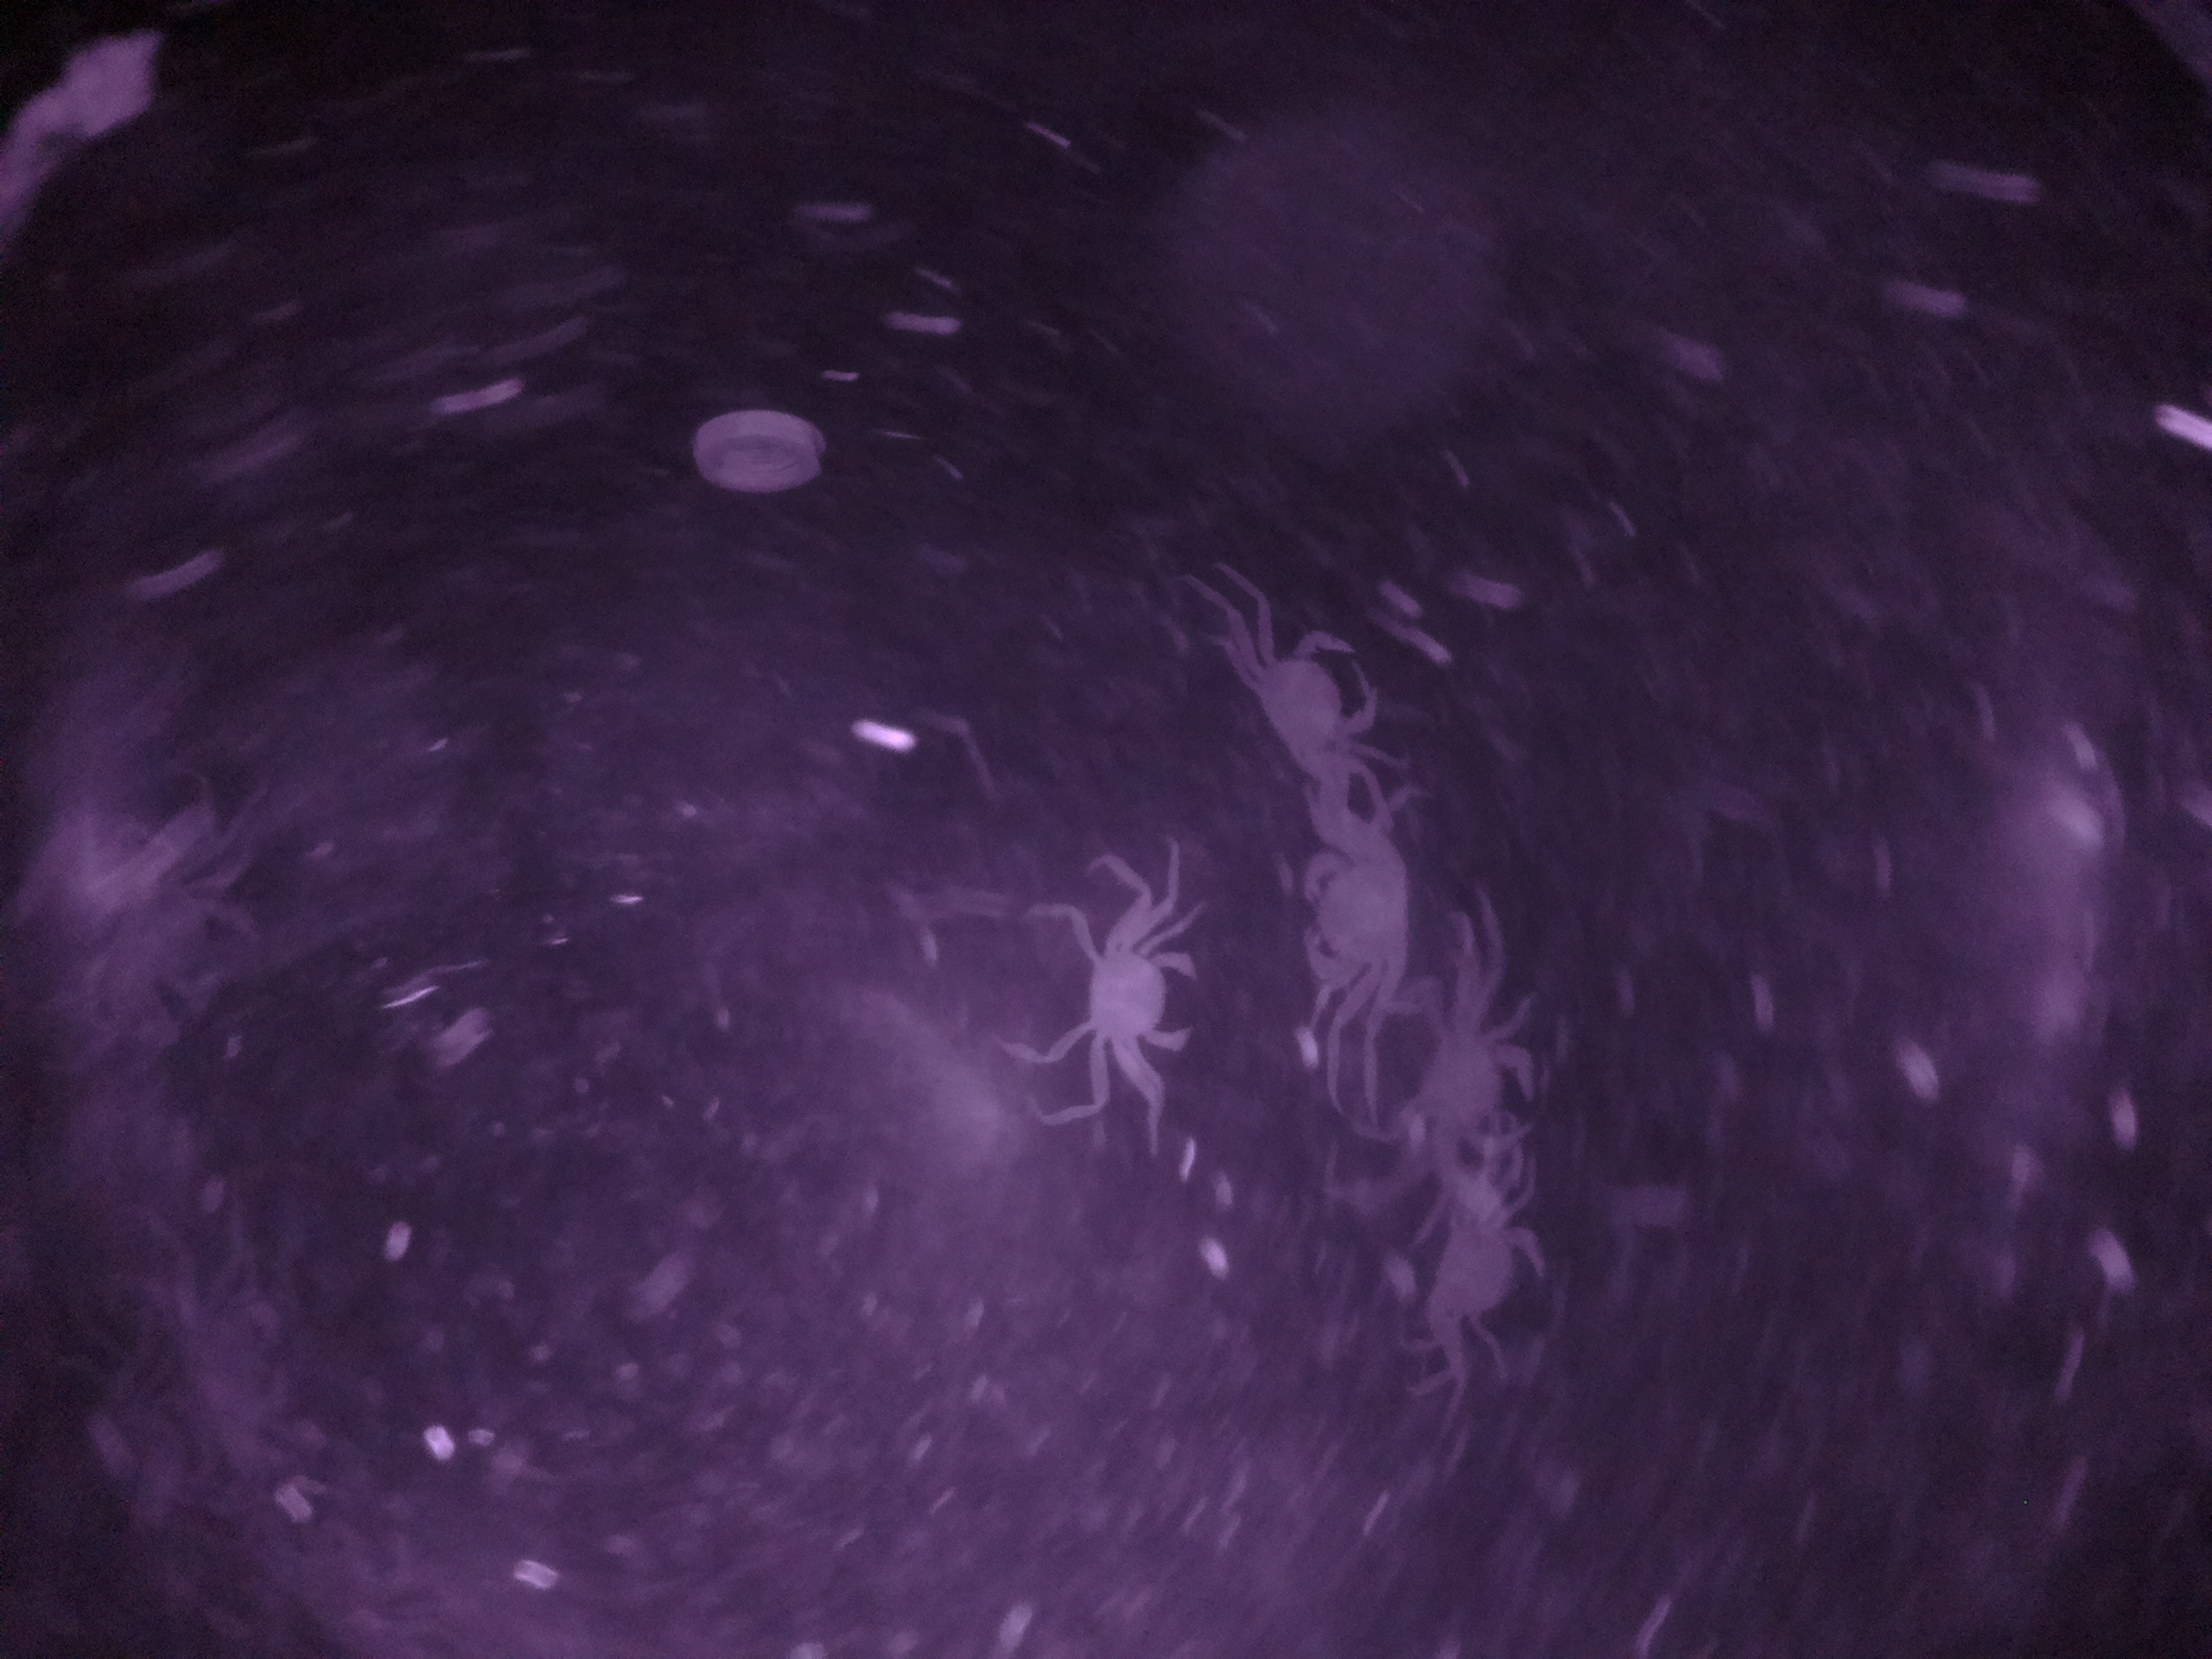Crab: (1228, 587, 1409, 798), (1280, 809, 1433, 1035), (1064, 897, 1202, 1080)
